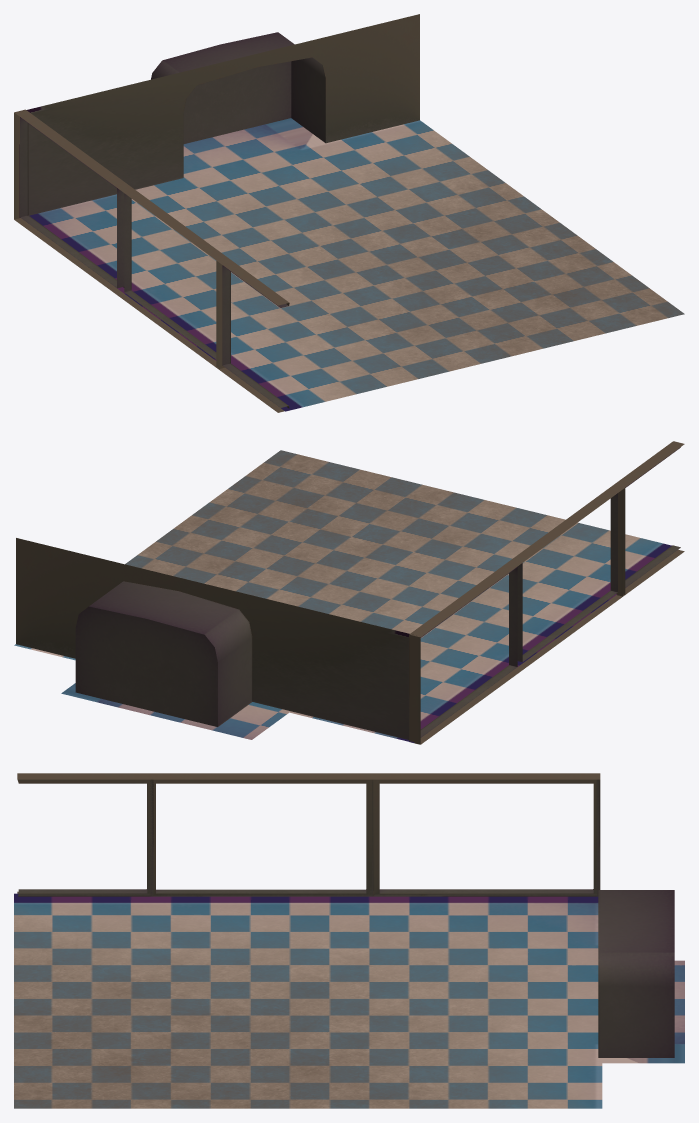
Rendered from Rooom.fbx.
3 views of the same model, one above another, from view 1: azimuth 30°, elevation 25°; view 2: azimuth 150°, elevation 25°; view 3: azimuth 270°, elevation 25° (orthographic). The views are drawn at different scales.
Visible parts, largest first — view 1: Room; view 2: Room; view 3: Room.
Boxes of the visible parts, box(x1,y1,x2,y2) form: Room: box(14, 14, 684, 412); Room: box(14, 441, 684, 744); Room: box(14, 773, 684, 1108).
Bounding box in the file's own units: 44 × 11.14 × 57.16.
